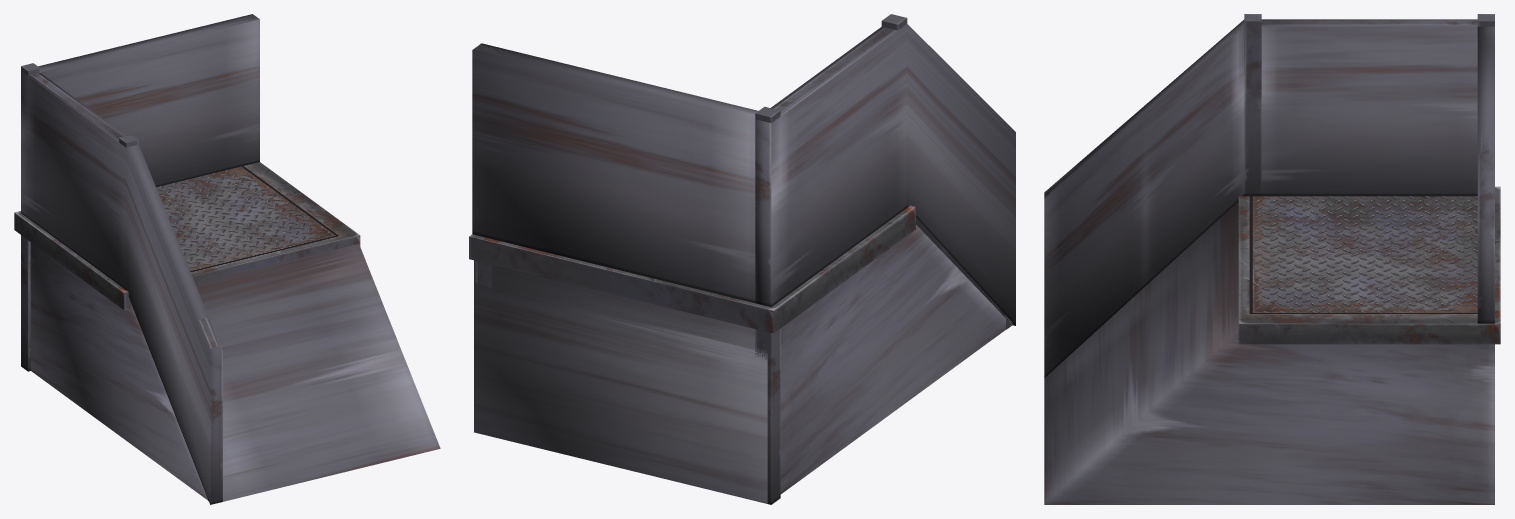
The model's file is stairs04_C.fbx.
The picture shows the model from 3 angles, left to right: view 1: azimuth 30°, elevation 25°; view 2: azimuth 150°, elevation 25°; view 3: azimuth 270°, elevation 25°; orthographic projection. The views are drawn at different scales.
Parts seen in each view (by area): view 1: stairs04_C_COL, stairs04_C; view 2: stairs04_C_COL, stairs04_C; view 3: stairs04_C_COL, stairs04_C.
Boxes of the visible parts, bbox=[...] form: stairs04_C_COL: bbox=[21, 14, 440, 504]; stairs04_C: bbox=[14, 15, 360, 500]; stairs04_C_COL: bbox=[472, 24, 1015, 503]; stairs04_C: bbox=[469, 14, 1012, 504]; stairs04_C_COL: bbox=[1044, 19, 1494, 504]; stairs04_C: bbox=[1049, 14, 1500, 344].
Bounding box in the file's own units: 169 × 205 × 238.
